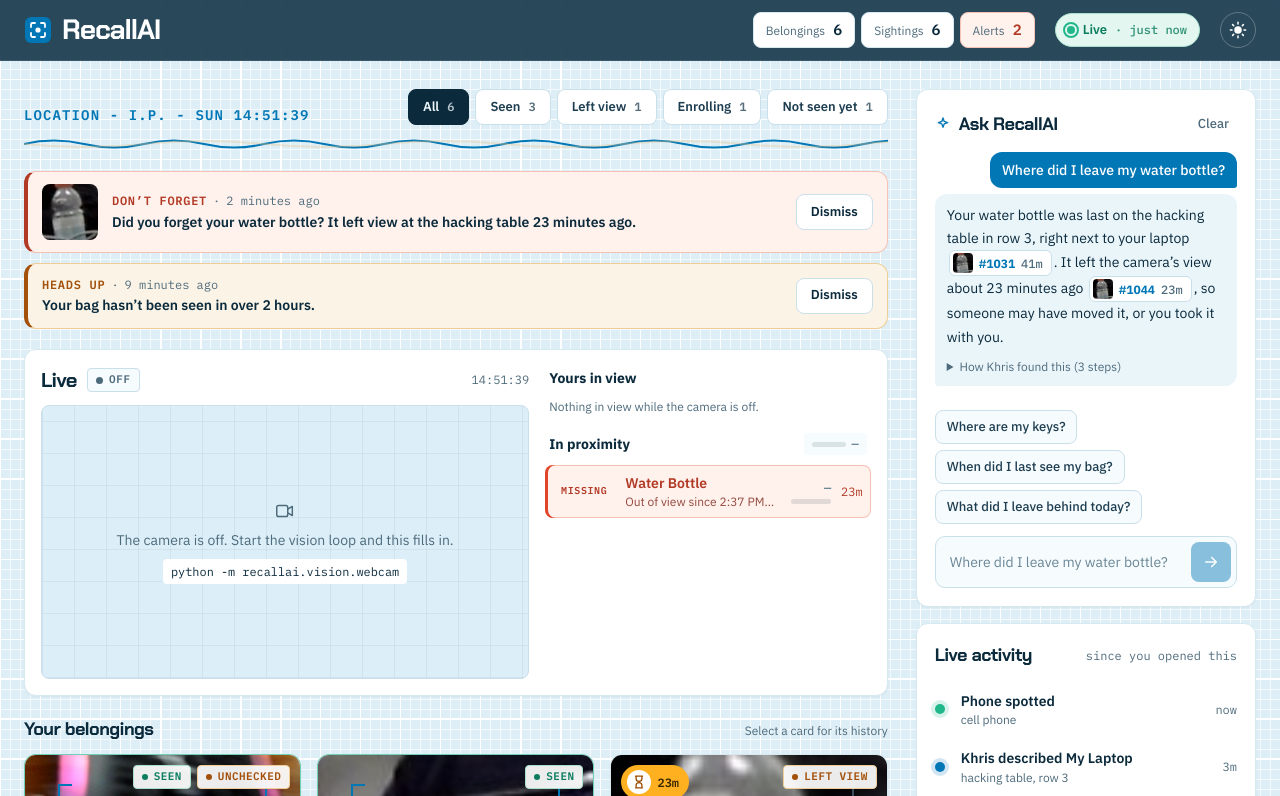
it: Dashboard › filters › counts belongings per state and filters the grid
The width and height of the screenshot is (1280, 796).
Check: the button "All 6" is shown, box [408,89,469,125]
Check: the button "Seen 3" is shown, box [475,89,551,125]
Click the button "Left view 1" at (607, 107), box [557,89,656,125]
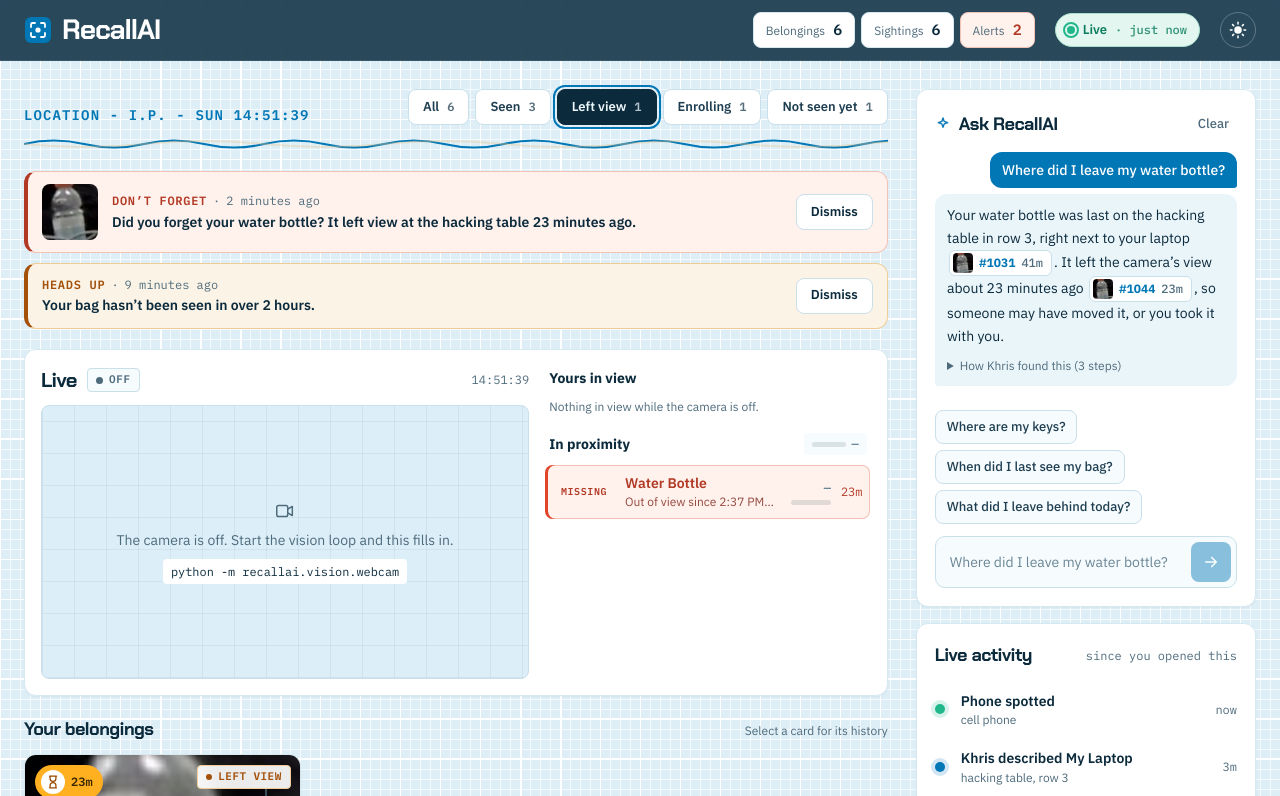
Check: the button "Left view 1" is pressed, box [557,89,656,125]
Click the button "All 6" at (439, 107), box [408,89,469,125]
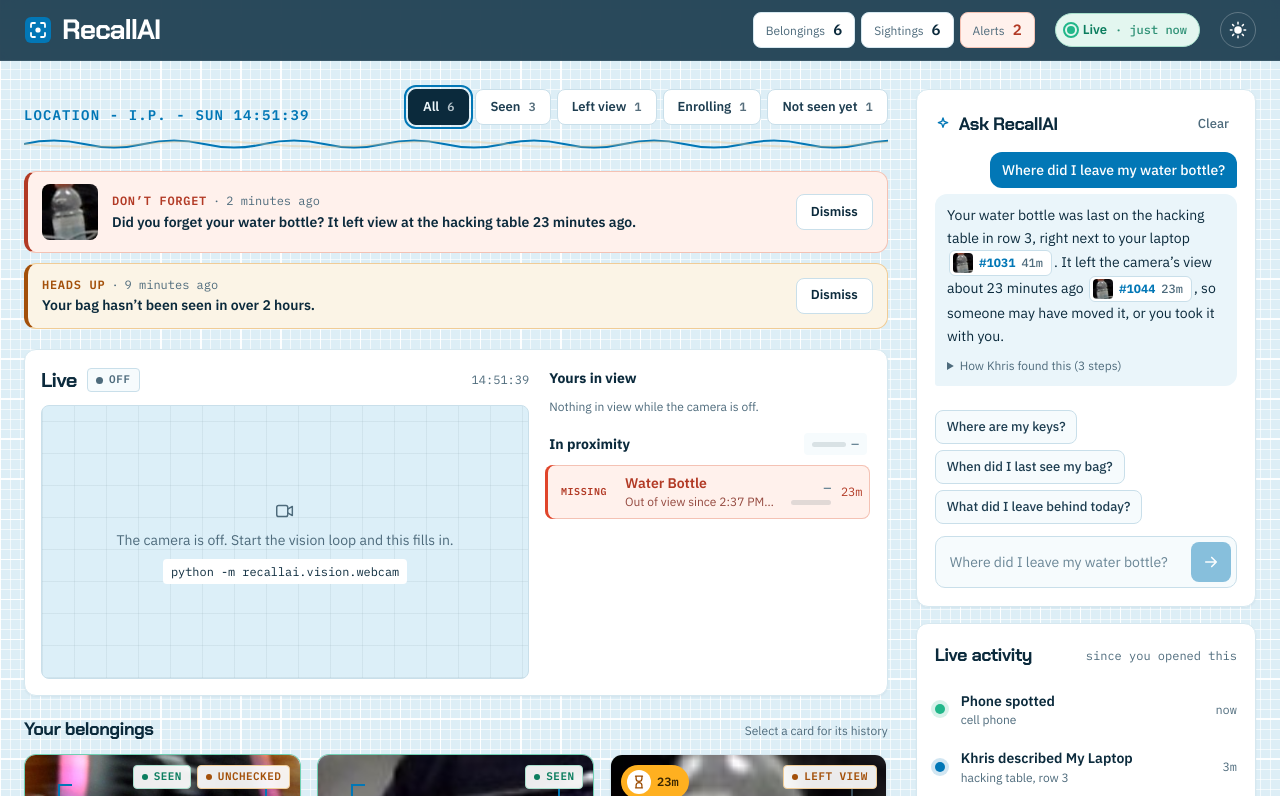
Check: the number of elements with test id "belonging-card" is 6
